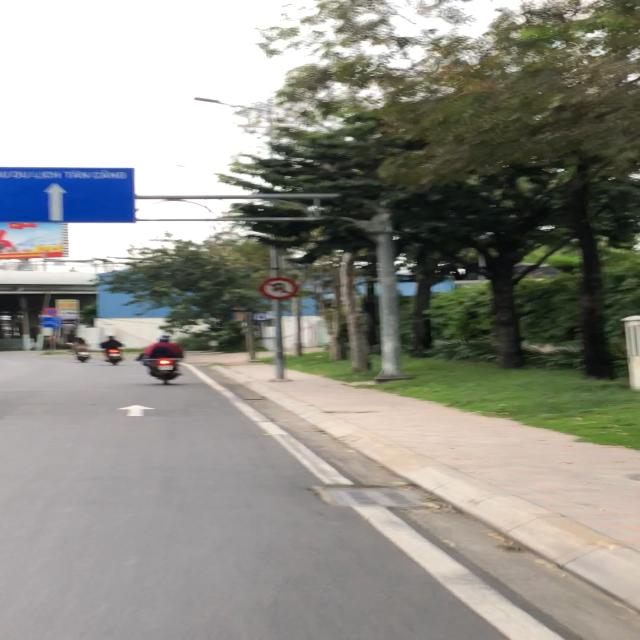Bien bao cam quay dau xe: (256, 276, 302, 302)
